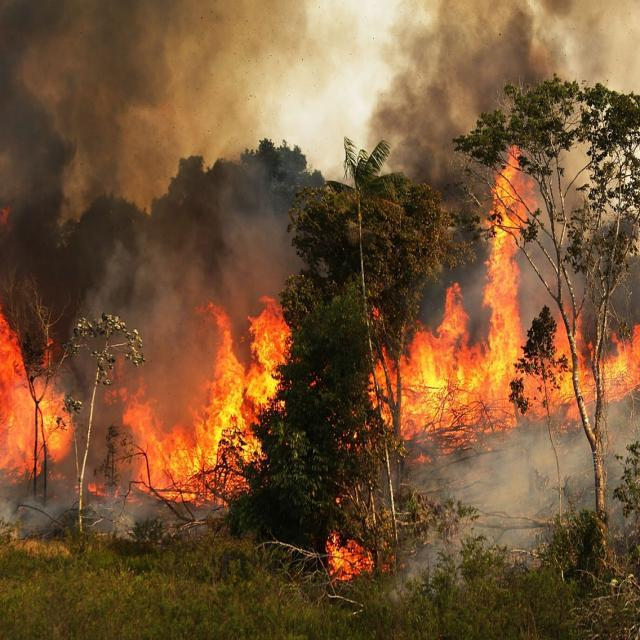Fire: (369, 142, 640, 444), (116, 297, 292, 506), (1, 313, 77, 488)
Smoke: (0, 4, 246, 179), (415, 444, 578, 564), (90, 262, 205, 396), (243, 0, 316, 121), (222, 193, 296, 305)
